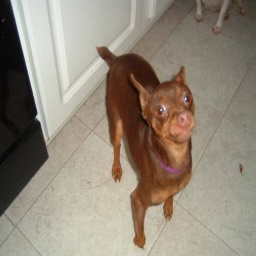dog: (95, 41, 198, 251)
